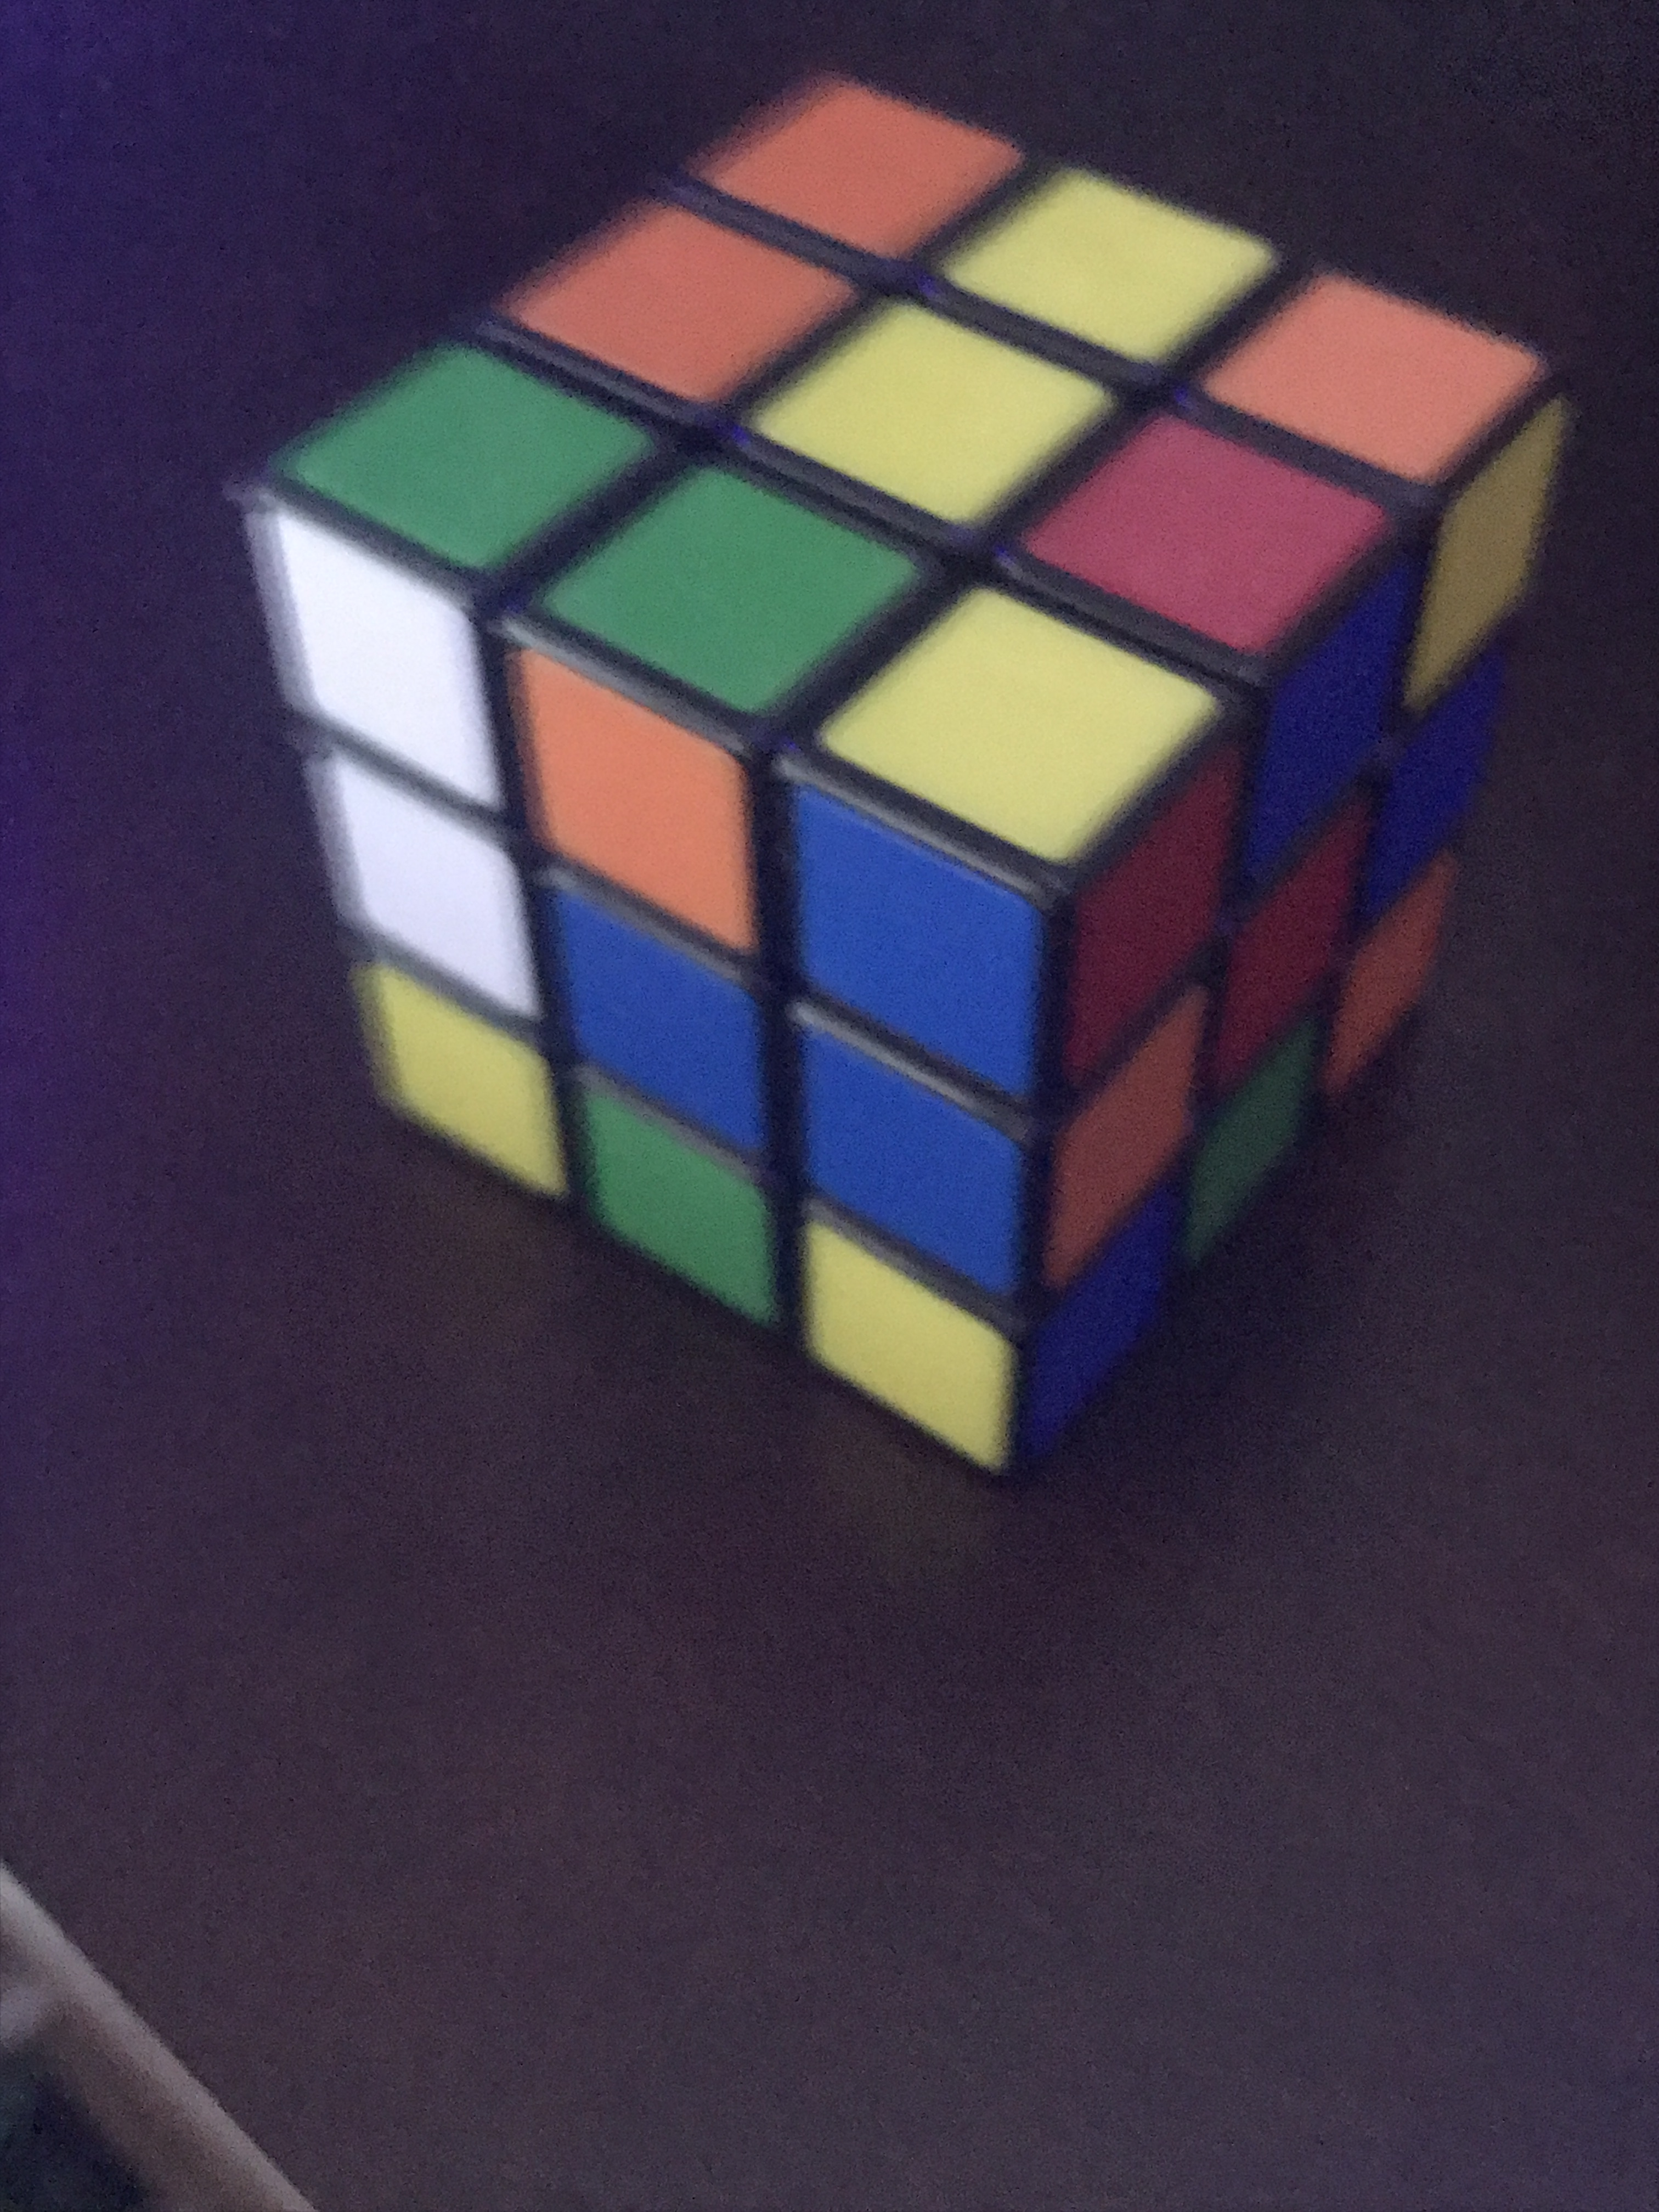rubiks: (232, 94, 1575, 1498)
